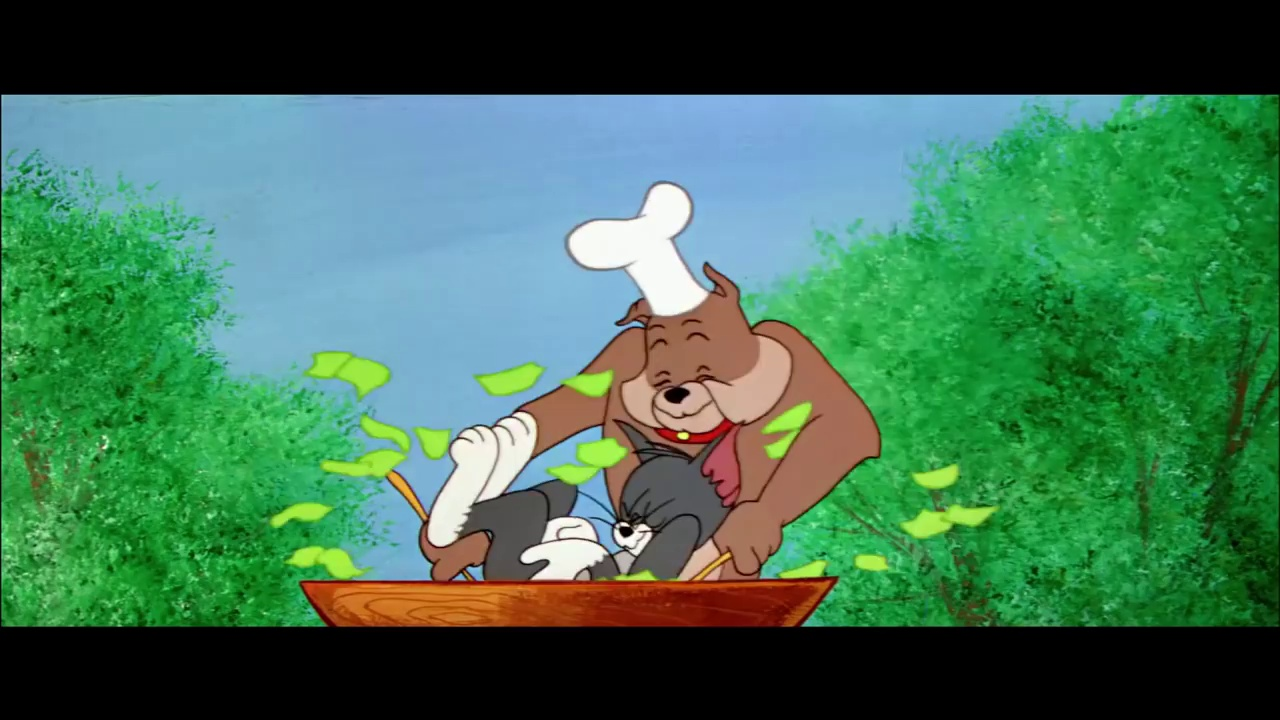spike: (606, 271, 792, 451)
